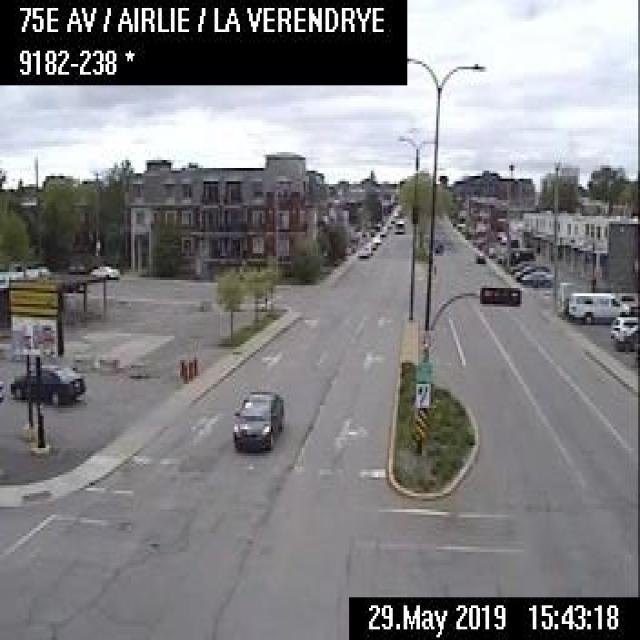bus: (393, 215, 405, 232)
construction: (192, 353, 198, 375), (186, 356, 192, 378), (181, 359, 187, 380)
vehicle: (7, 359, 84, 406), (230, 388, 282, 450), (566, 286, 628, 317), (611, 312, 638, 346), (519, 269, 553, 287), (513, 263, 549, 279), (89, 264, 120, 280), (433, 236, 445, 253), (472, 248, 483, 264), (356, 245, 368, 256), (372, 234, 381, 243), (368, 240, 377, 248)
